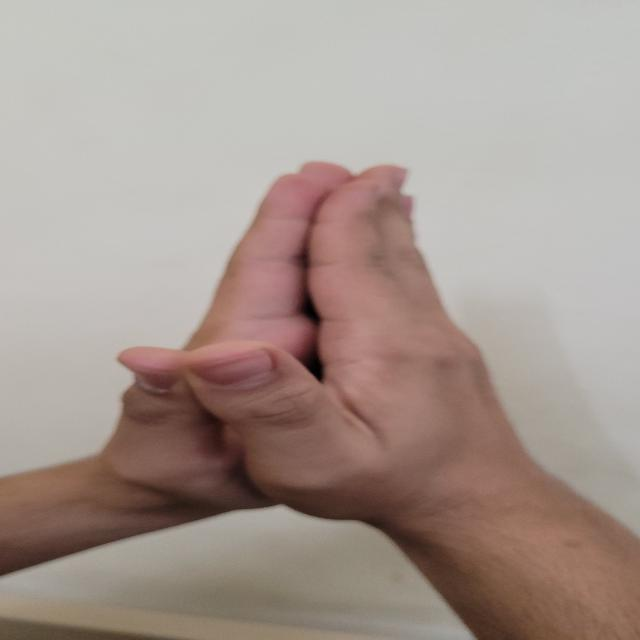Thank You: (110, 115, 578, 589)
